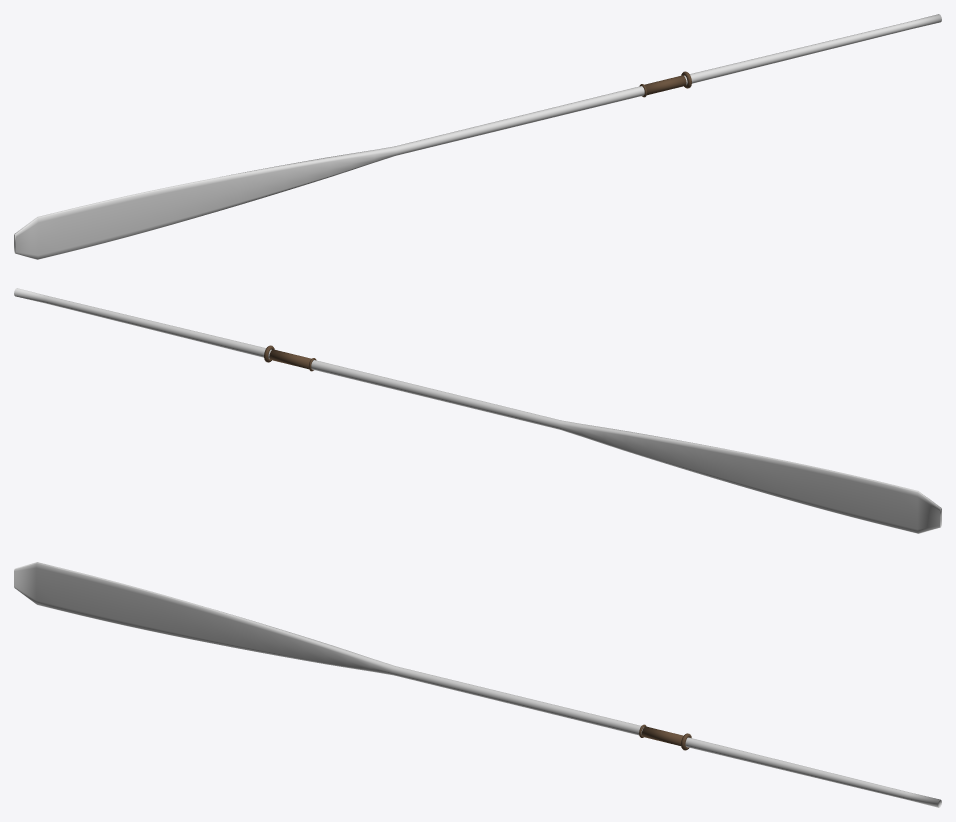
File: oar_p5.glb
3 renders of one model, top to bottom at view 1: azimuth 30°, elevation 25°; view 2: azimuth 150°, elevation 25°; view 3: azimuth 330°, elevation 25°, orthographic.
Parts seen in each view (by area): view 1: Oar_P5; view 2: Oar_P5; view 3: Oar_P5.
Boxes of the visible parts, x1,y1,x2,y2 form: Oar_P5: [14, 14, 941, 259]; Oar_P5: [14, 288, 941, 533]; Oar_P5: [14, 562, 941, 807].
Bounding box in the file's own units: 5.18 × 0.23 × 0.086.
